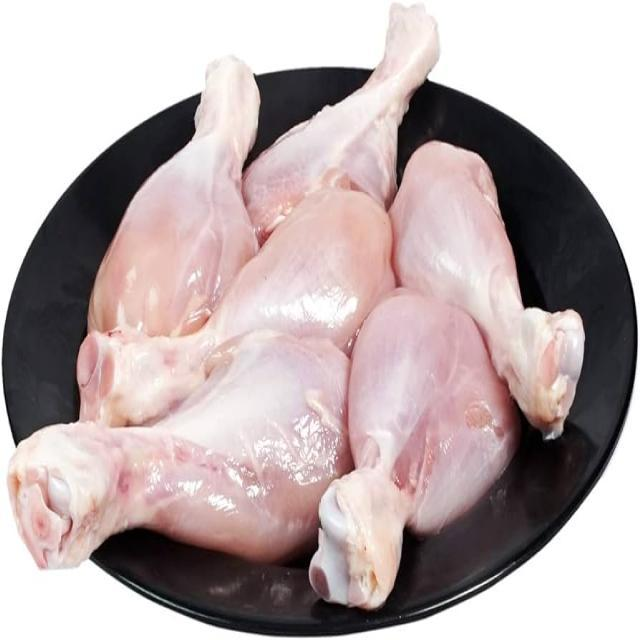leg: (74, 190, 397, 414), (20, 337, 342, 557), (390, 137, 580, 418), (336, 293, 492, 601), (102, 56, 251, 312), (252, 0, 428, 209)
